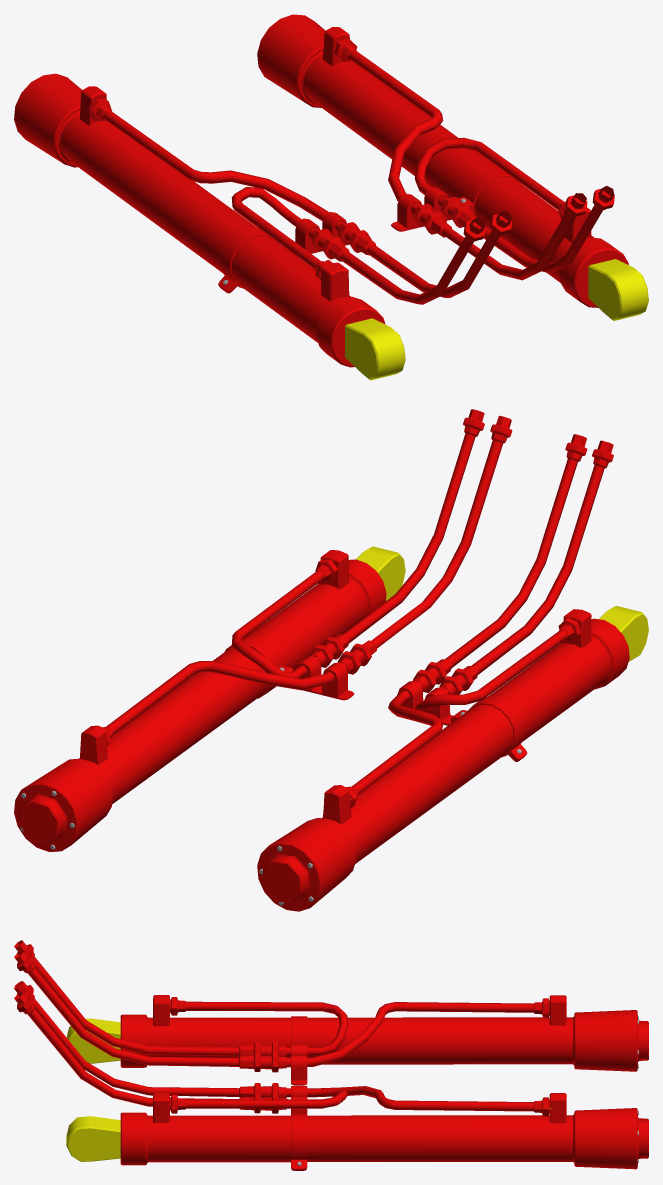
Rendered from ExcavatorMachine_HydraulicCylinder03_01a_snaps005.fbx.
3 renders of one model, top to bottom at view 1: azimuth 30°, elevation 25°; view 2: azimuth 150°, elevation 25°; view 3: azimuth 270°, elevation 25°, orthographic. The views are drawn at different scales.
Visible parts, largest first — view 1: ExcavatorMachine_HydraulicCylinder03_01a_snaps005; view 2: ExcavatorMachine_HydraulicCylinder03_01a_snaps005; view 3: ExcavatorMachine_HydraulicCylinder03_01a_snaps005.
Part boxes in pixels (x1=…): ExcavatorMachine_HydraulicCylinder03_01a_snaps005: x1=14, y1=14, x2=648, y2=380; ExcavatorMachine_HydraulicCylinder03_01a_snaps005: x1=14, y1=409, x2=648, y2=911; ExcavatorMachine_HydraulicCylinder03_01a_snaps005: x1=14, y1=940, x2=648, y2=1170.
Bounding box in the file's own units: 107 × 60.78 × 232.
